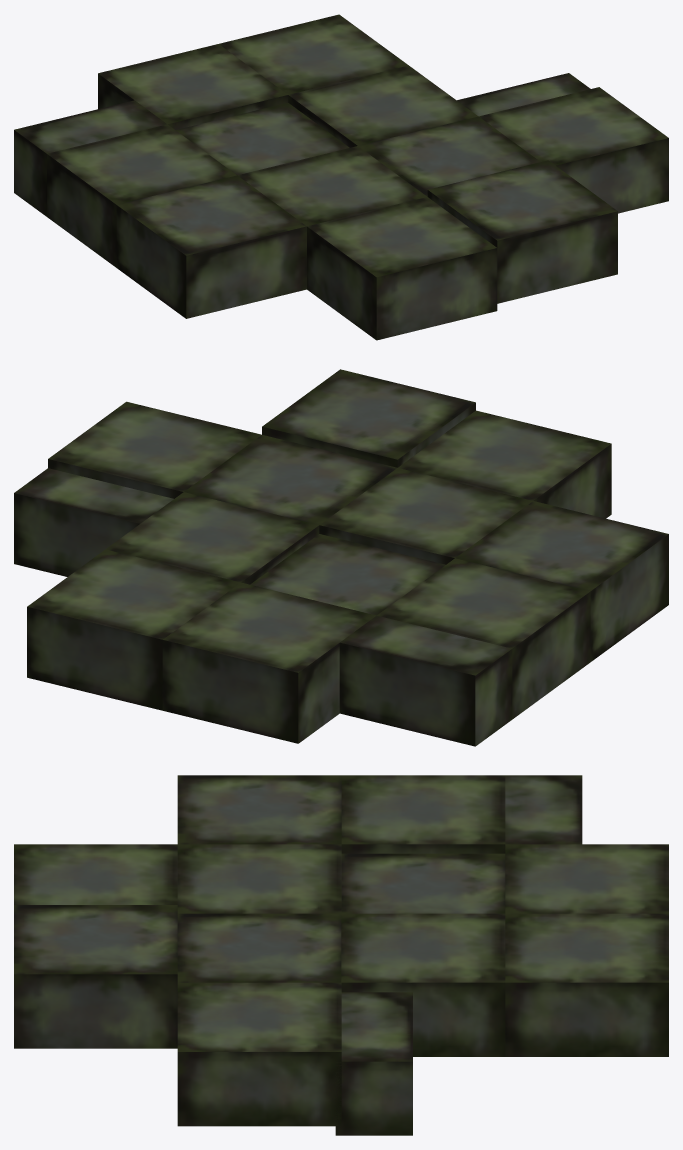
The model's file is bridge-debris-1.fbx.
3 renders of one model, top to bottom at view 1: azimuth 30°, elevation 25°; view 2: azimuth 150°, elevation 25°; view 3: azimuth 270°, elevation 25°, orthographic. The views are drawn at different scales.
Visible parts, largest first — view 1: bridge_debris_01; view 2: bridge_debris_01; view 3: bridge_debris_01.
Part boxes in pixels (x1,y1,x2,y2): bridge_debris_01: (14,14,668,340); bridge_debris_01: (14,369,668,746); bridge_debris_01: (14,775,668,1135).
Bounding box in the file's own units: 400 × 62.14 × 400.
